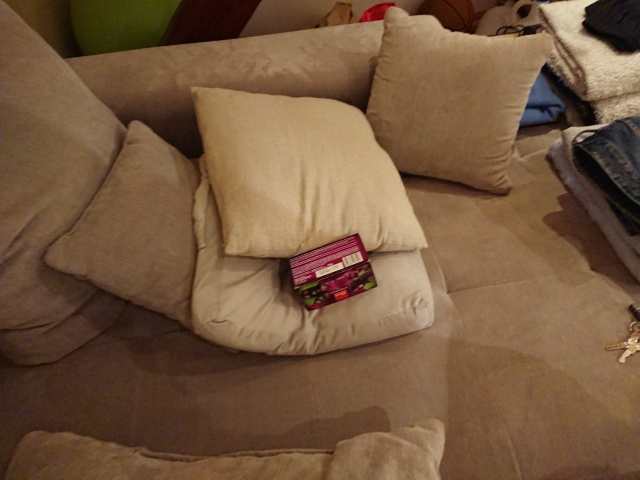Franck Black Currant Tea 60g: (285, 231, 380, 313)
